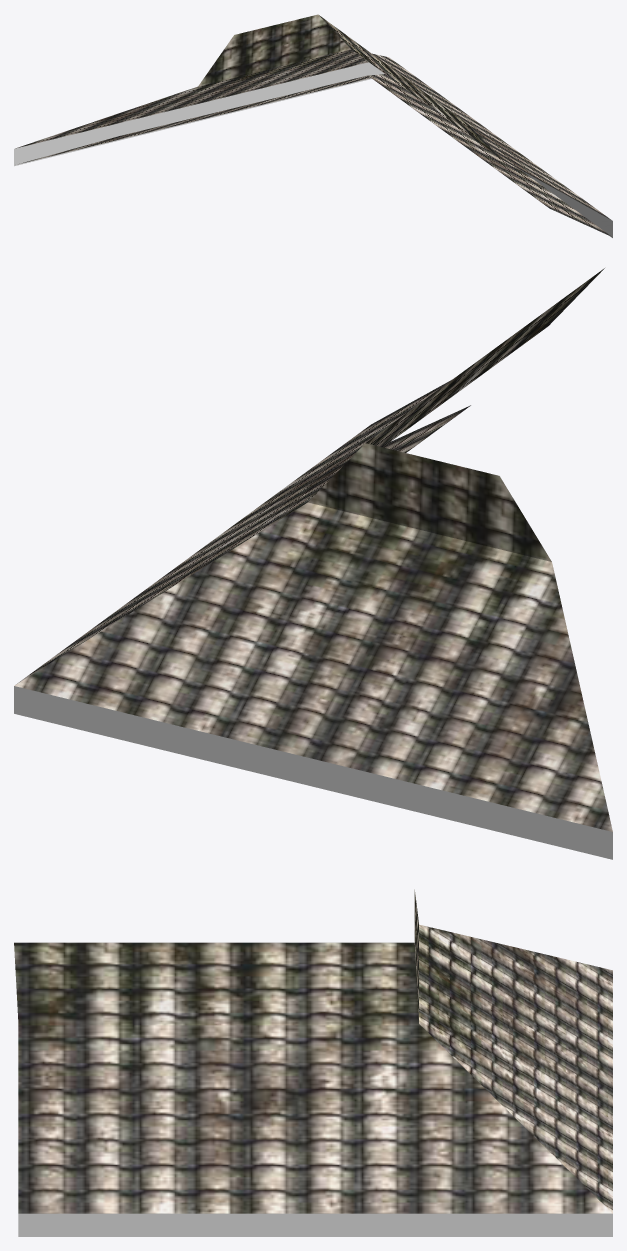
The picture shows the model from 3 angles, top to bottom: view 1: azimuth 30°, elevation 25°; view 2: azimuth 150°, elevation 25°; view 3: azimuth 270°, elevation 25°; orthographic projection. The views are drawn at different scales.
Parts seen in each view (by area): view 1: Box82; view 2: Box82; view 3: Box82.
Part boxes in pixels (x1,y1,x2,y2): Box82: [14, 14, 612, 237]; Box82: [14, 268, 612, 859]; Box82: [14, 889, 612, 1236].
Bounding box in the file's own units: 101 × 38.5 × 105.
